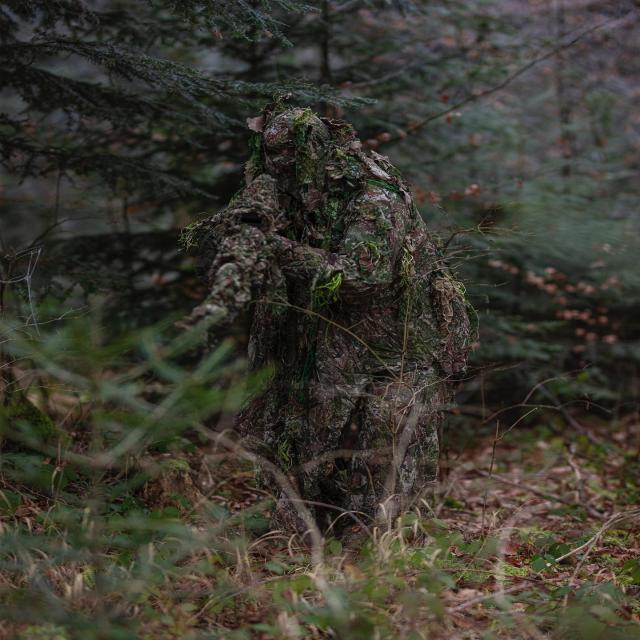Human: (177, 92, 470, 545)
